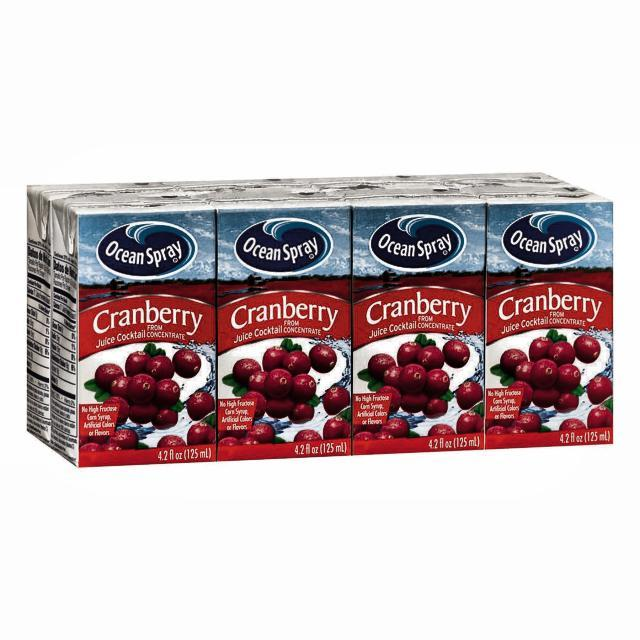cardboard: (26, 172, 614, 468)
